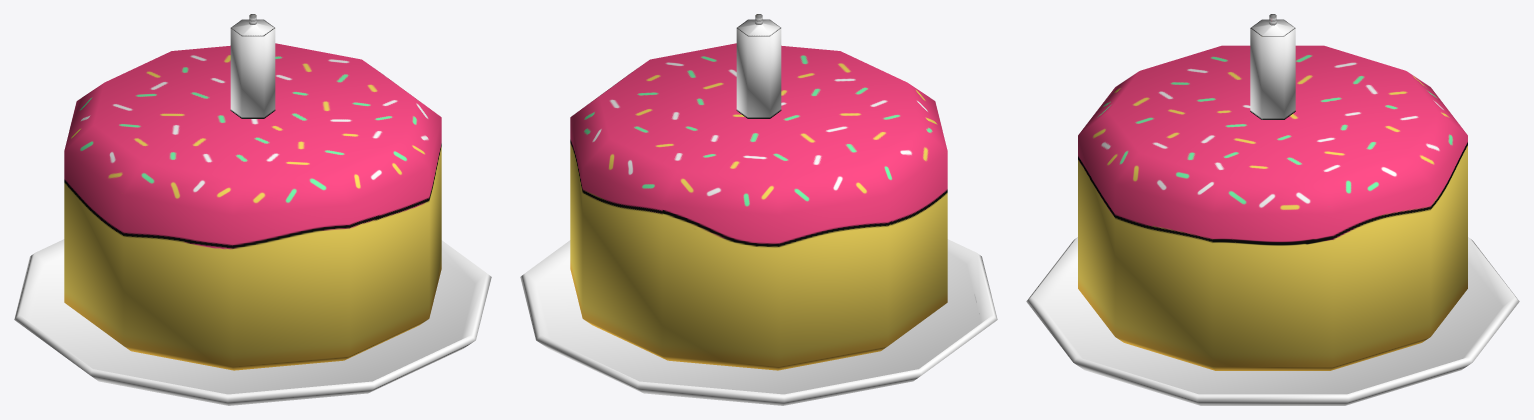
The model's file is bolo.fbx.
3 renders of one model, left to right at view 1: azimuth 30°, elevation 25°; view 2: azimuth 150°, elevation 25°; view 3: azimuth 270°, elevation 25°, orthographic.
Visible parts, largest first — view 1: Bolo; view 2: Bolo; view 3: Bolo.
Part boxes in pixels (x1,y1,x2,y2): Bolo: (14, 14, 491, 405); Bolo: (520, 14, 997, 405); Bolo: (1026, 14, 1519, 405).
Bounding box in the file's own units: 207 × 144 × 218.
Materials: 1 (1 with a texture image).
